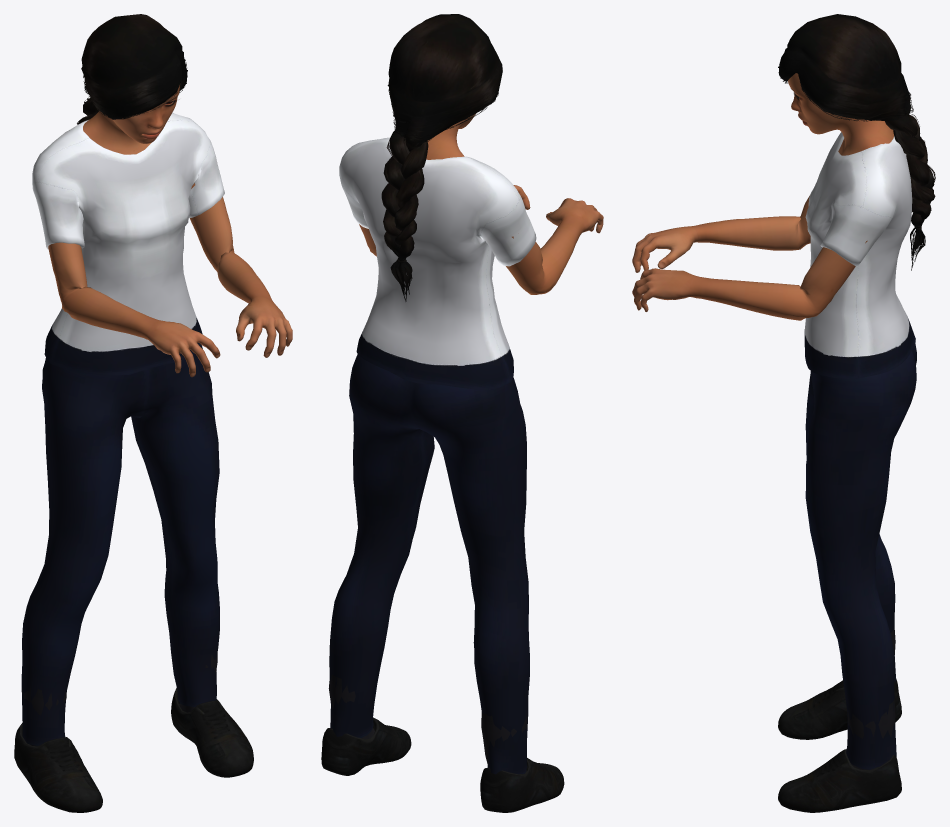
The model's file is g1_counter.glb.
3 renders of one model, left to right at view 1: azimuth 30°, elevation 25°; view 2: azimuth 150°, elevation 25°; view 3: azimuth 270°, elevation 25°, orthographic.
Visible parts, largest first — view 1: g1.female_casualsuit01, g1, g1.shoes02, g1.braid01; view 2: g1.female_casualsuit01, g1.braid01, g1.shoes02, g1; view 3: g1.female_casualsuit01, g1, g1.braid01, g1.shoes02.
Boxes of the visible parts, x1,y1,x2,y2 form: g1.female_casualsuit01: (21,113,224,745); g1: (48,85,292,376); g1.shoes02: (14,651,253,812); g1.braid01: (77,14,187,124); g1.female_casualsuit01: (329,137,536,774); g1.braid01: (381,14,502,301); g1.shoes02: (321,674,564,812); g1: (359,113,603,294); g1.female_casualsuit01: (804,132,916,769); g1: (632,73,894,320); g1.braid01: (778,14,935,270); g1.shoes02: (778,627,901,812).
Bounding box in the file's own units: 0.4414 × 1.53 × 0.5612.
Materials: 7 (7 with a texture image).
